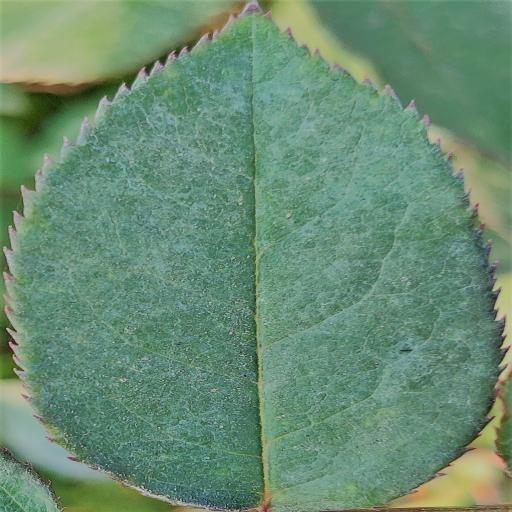healthy_leaf: (6, 3, 501, 512)
